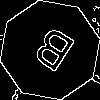B: (25, 25, 77, 82)
